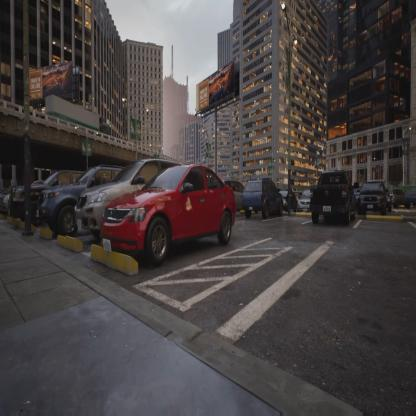License-Plate: (102, 237, 113, 252), (75, 217, 84, 231), (322, 204, 332, 214), (36, 208, 42, 219), (248, 206, 254, 212), (301, 207, 308, 212)
